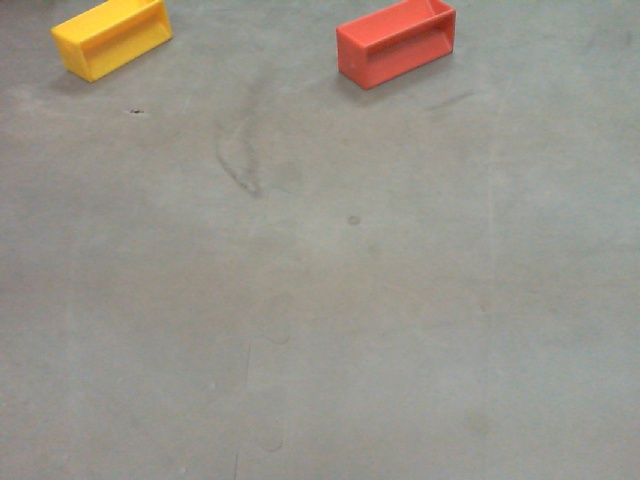RedSample: (339, 1, 455, 90)
YellowSample: (49, 1, 172, 78)
